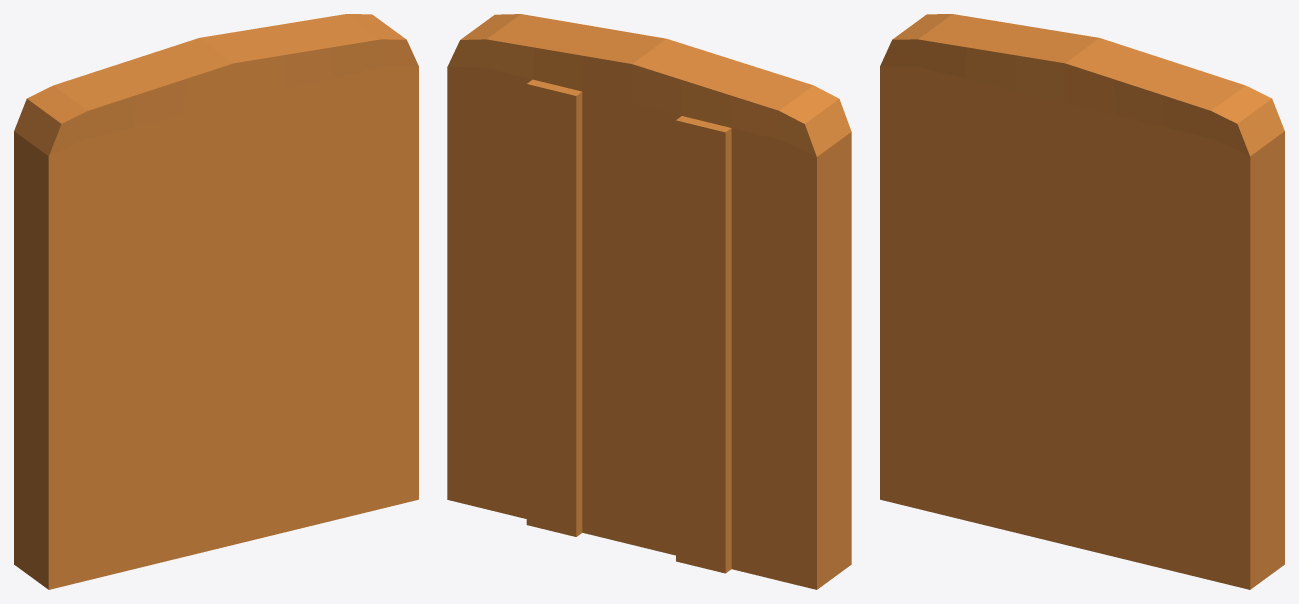
The model's file is door.fbx.
3 views of the same model, side by side, from view 1: azimuth 30°, elevation 25°; view 2: azimuth 150°, elevation 25°; view 3: azimuth 330°, elevation 25° (orthographic).
Visible parts, largest first — view 1: Cube; view 2: Cube; view 3: Cube.
Part boxes in pixels (box(x1,y1,x2,y2)): Cube: box(14, 14, 418, 589); Cube: box(447, 14, 851, 589); Cube: box(880, 14, 1284, 589).
Bounding box in the file's own units: 145 × 181 × 28.13.
